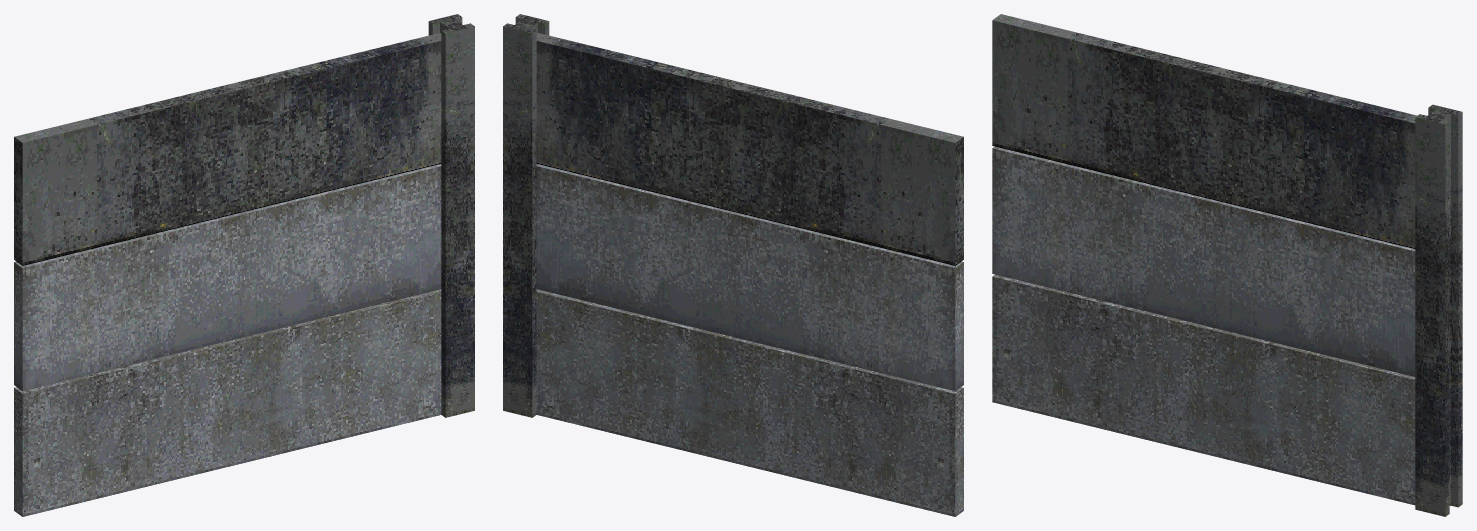
The model's file is plackard_open_alt.glb.
3 views of the same model, side by side, from view 1: azimuth 30°, elevation 25°; view 2: azimuth 150°, elevation 25°; view 3: azimuth 330°, elevation 25° (orthographic). The views are drawn at different scales.
Visible parts, largest first — view 1: plackard_open_alt; view 2: plackard_open_alt; view 3: plackard_open_alt.
Part boxes in pixels (x1=…): plackard_open_alt: x1=14, y1=14, x2=474, y2=516; plackard_open_alt: x1=503, y1=14, x2=963, y2=516; plackard_open_alt: x1=992, y1=14, x2=1462, y2=516.
Size of the model in its own units: 3.05 by 2.5 by 0.2.
Materials: 1 (1 with a texture image).
